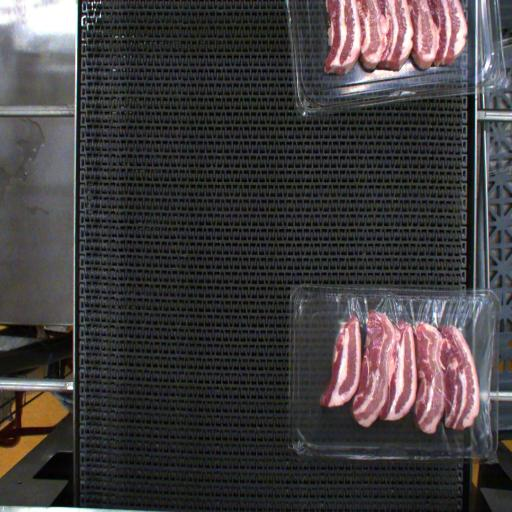unsealed: (318, 287, 495, 452)
